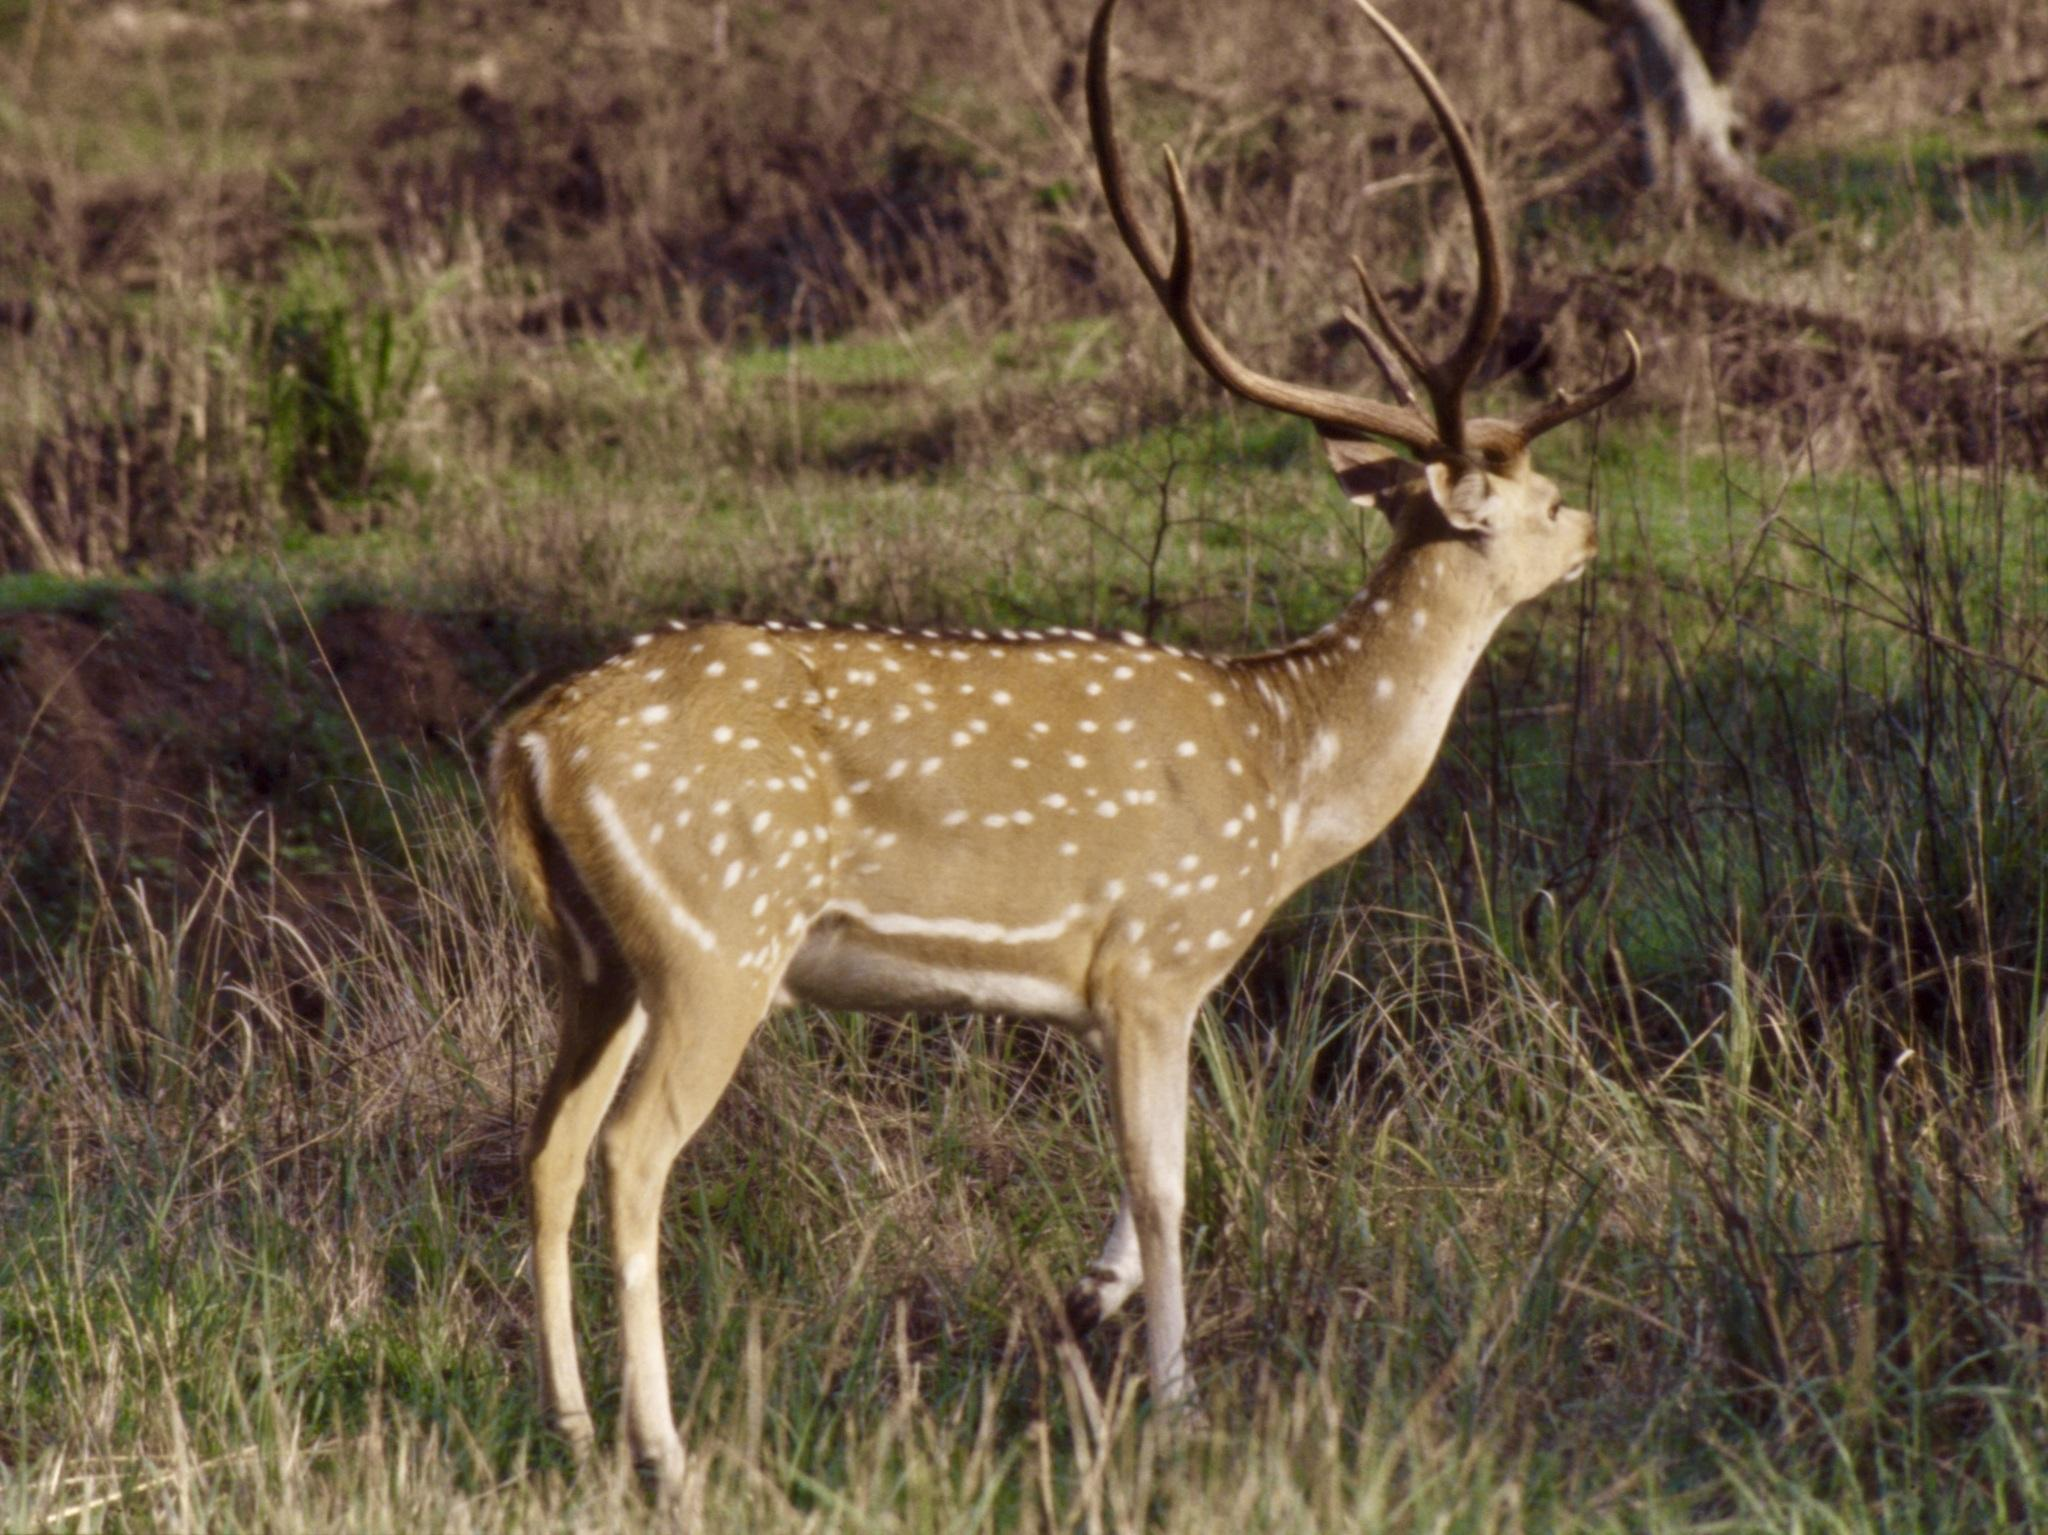Deer: (492, 0, 1637, 1488)
